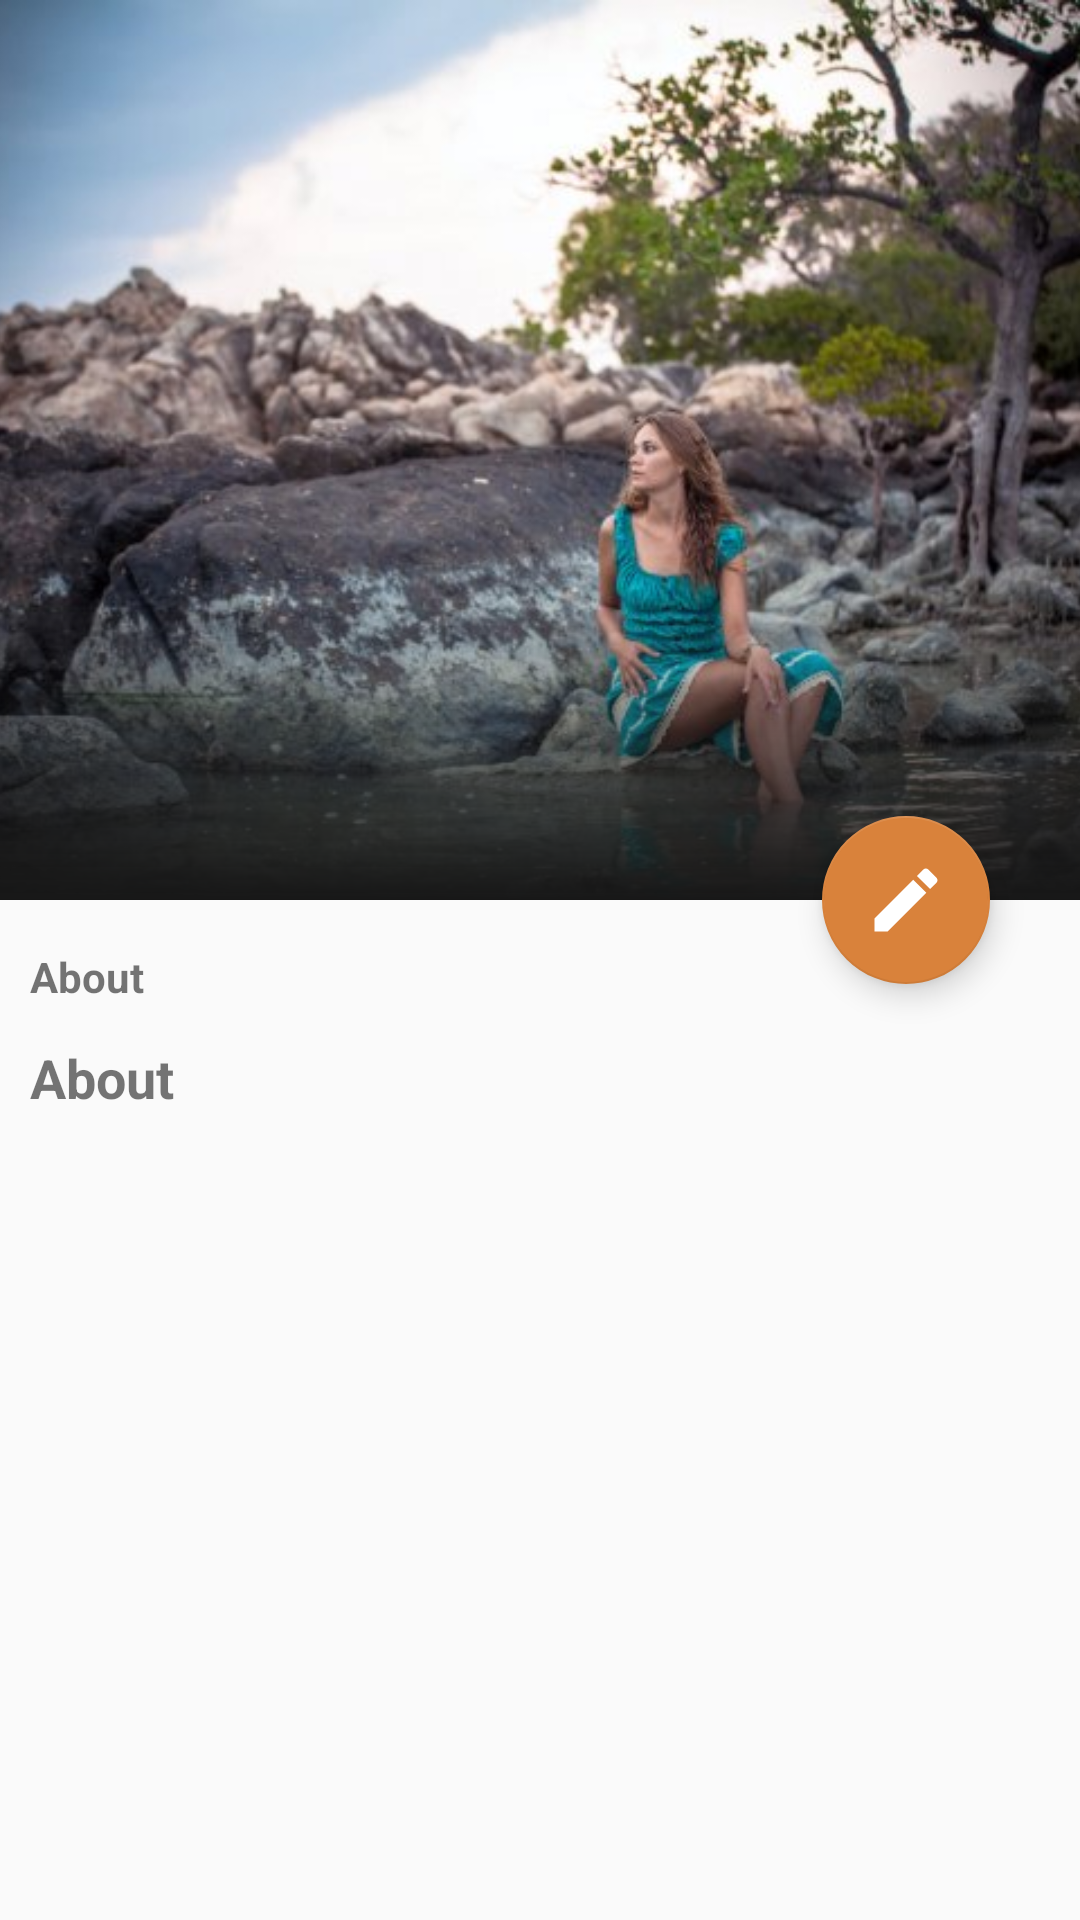

Screen size 1080 x 1920. Icon name, then its center in pixels as (x=x, y=y):
edit: (x=906, y=900)
